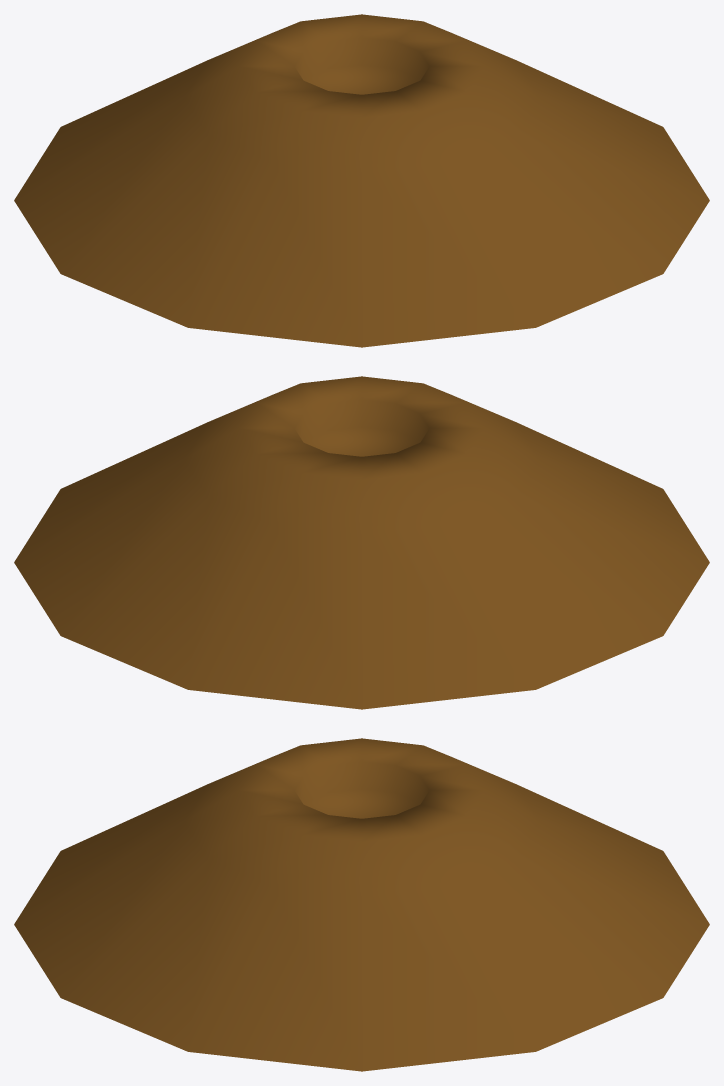
File: ZonaSiembra.fbx
The picture shows the model from 3 angles, top to bottom: view 1: azimuth 30°, elevation 25°; view 2: azimuth 150°, elevation 25°; view 3: azimuth 270°, elevation 25°; orthographic projection.
Visible parts, largest first — view 1: Tierra; view 2: Tierra; view 3: Tierra.
Boxes of the visible parts, x1,y1,x2,y2 form: Tierra: (14,14,709,347); Tierra: (14,376,709,709); Tierra: (14,738,709,1071).
Size of the model in its own units: 200 by 42.56 by 200.
